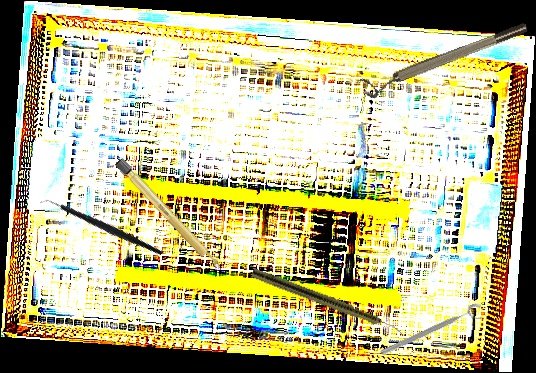Chopper: (38, 165, 164, 291)
Fixation Ring: (359, 19, 532, 102), (378, 301, 487, 364)
Handpiece: (250, 267, 407, 338)
Scalpel Handle: (114, 157, 224, 274)
